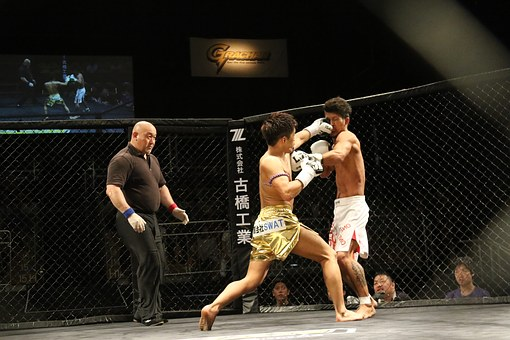fist: (308, 116, 333, 144)
